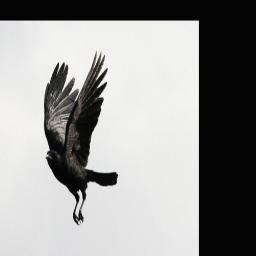Crow: (42, 50, 118, 229)
